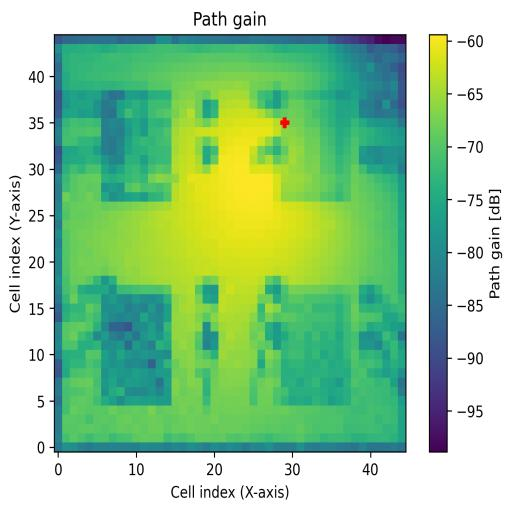Concrete: (282, 92, 352, 202)
Glass: (101, 90, 172, 204)
Metal: (280, 292, 352, 405)
Wood: (101, 295, 173, 407)
